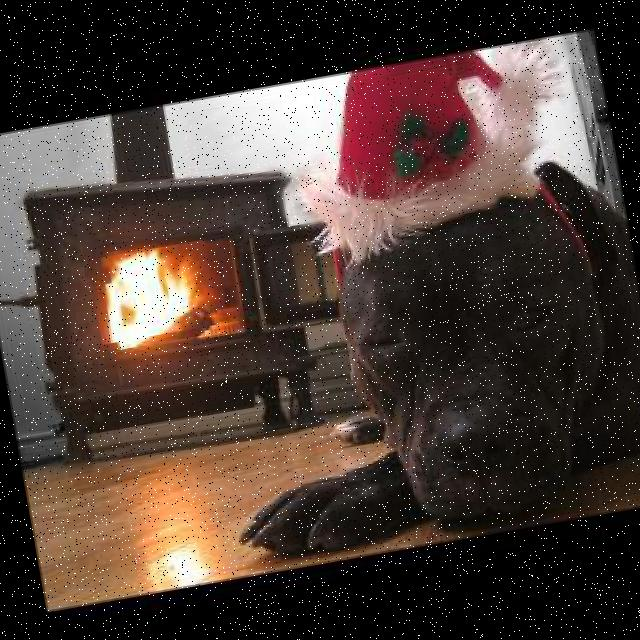fire: (87, 239, 219, 344)
